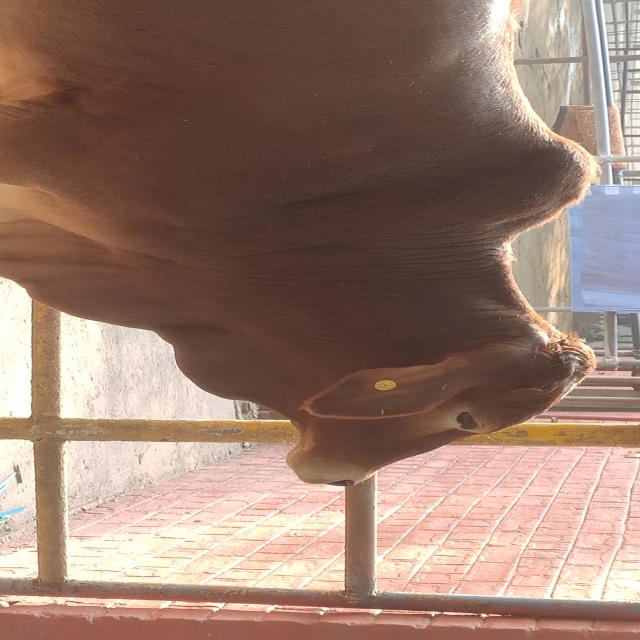cow: (1, 0, 603, 487)
hump: (498, 123, 597, 246)
